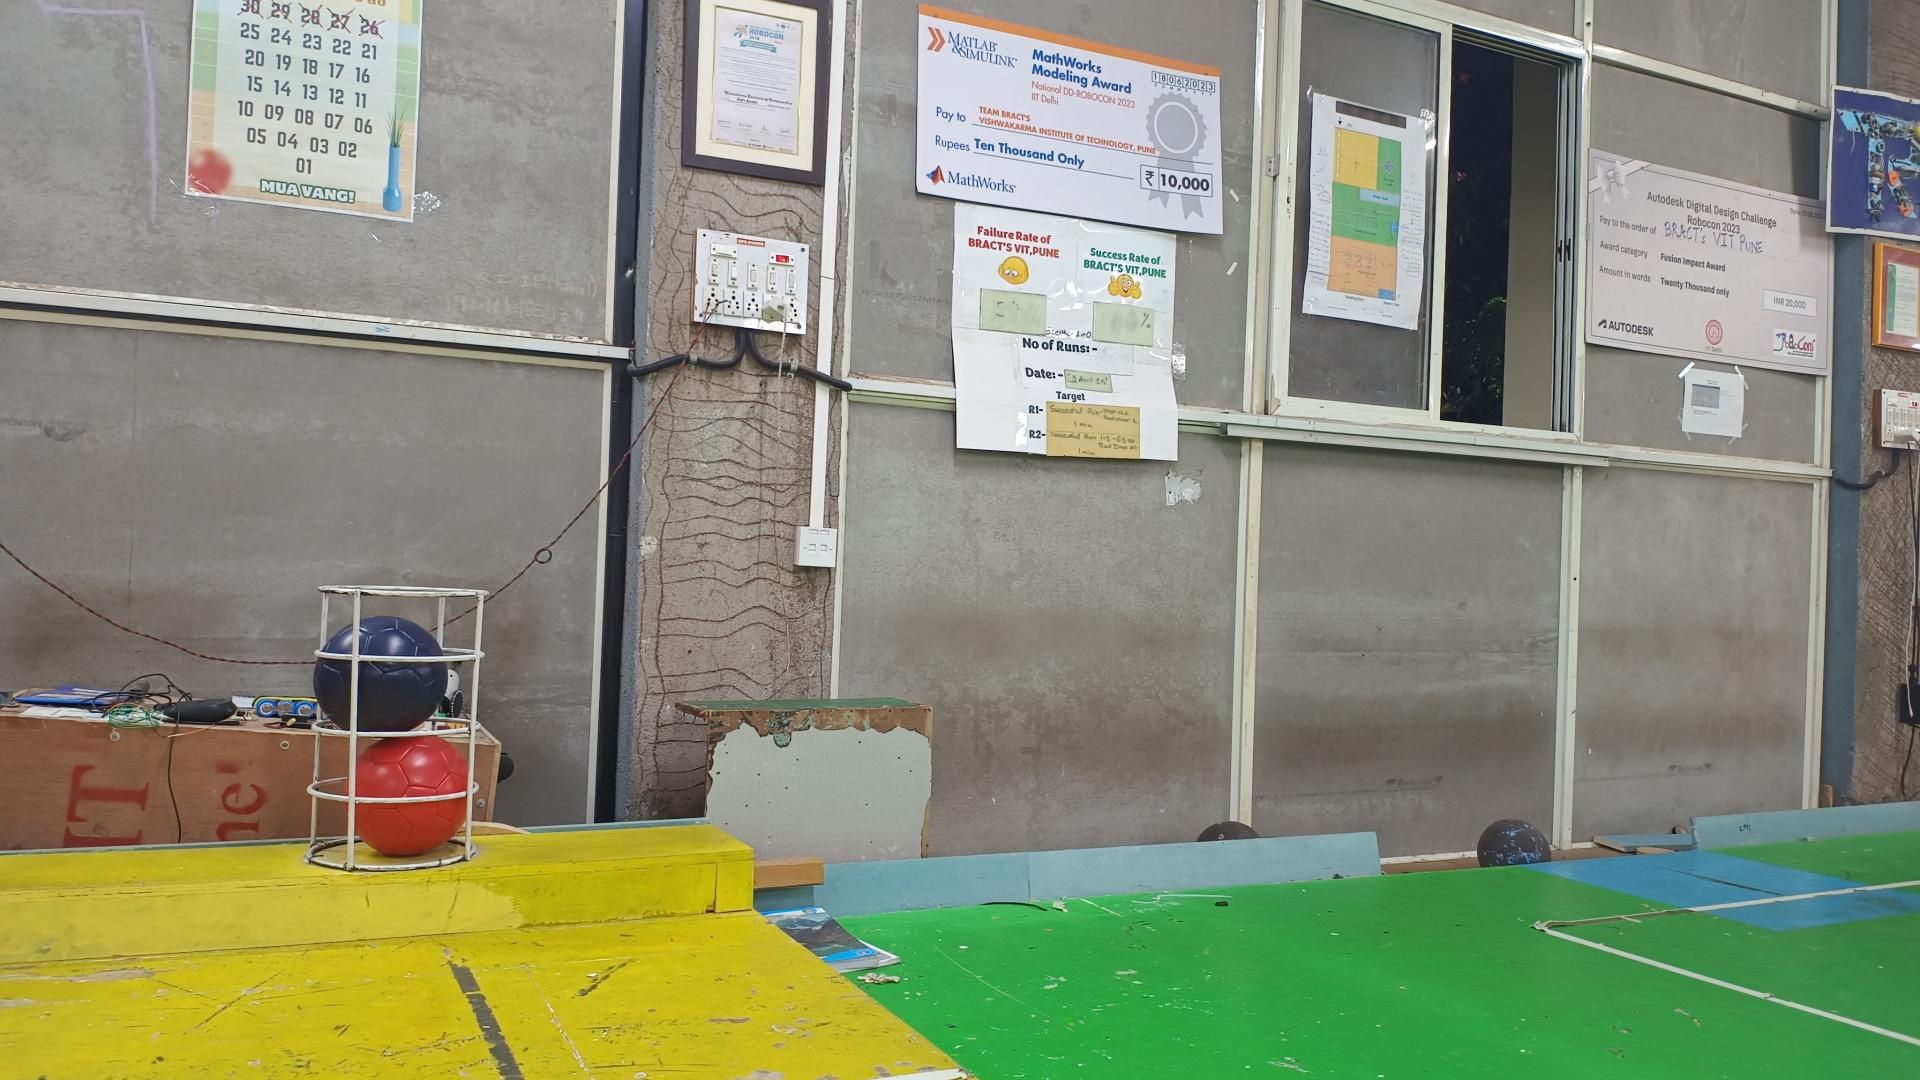dhoka: (315, 615, 450, 732)
laale: (352, 735, 468, 855)
